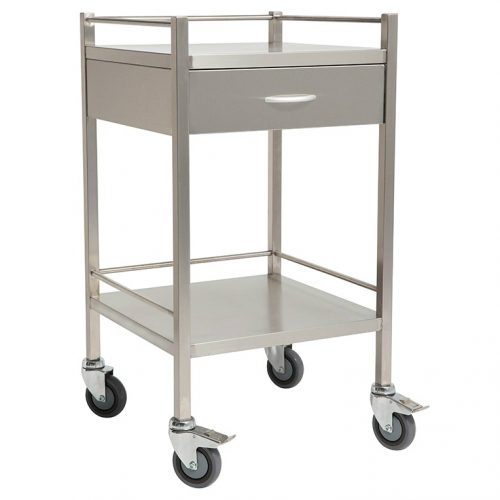Carts: (78, 10, 428, 487)
